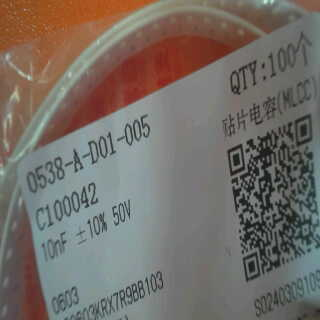10nF: (37, 228, 73, 262)
